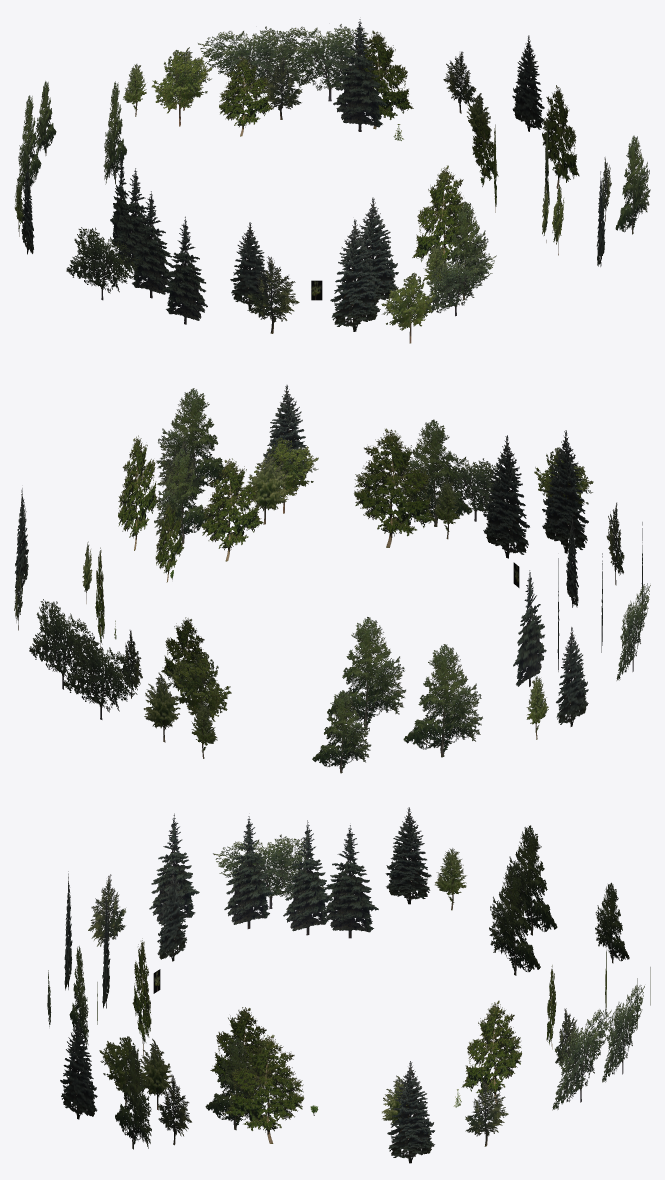
Rendered from level_forest_n2.FBX.
3 views of the same model, one above another, from view 1: azimuth 30°, elevation 25°; view 2: azimuth 150°, elevation 25°; view 3: azimuth 270°, elevation 25° (orthographic). The views are drawn at different scales.
Parts seen in each view (by area): view 1: Tree_200, Tree_239, Tree_138, Tree_137, Tree_198, Tree_206, Tree_215, Tree_216, Tree_169, Tree_242, Tree_152, Tree_204 (+21 smaller); view 2: Tree_198, Tree_223, Tree_199, Tree_230, Tree_207, Tree_239, Tree_226, Tree_138, Tree_243, Tree_200, Tree_217, Tree_208 (+22 smaller); view 3: Tree_201, Tree_204, Tree_241, Tree_199, Tree_176, Tree_206, Tree_242, Tree_225, Tree_200, Tree_179, Tree_223, Tree_231 (+19 smaller).
Part boxes in pixels (x1,y1,x2,y2): Tree_200: (268,24,388,101); Tree_239: (198,26,310,100); Tree_138: (330,219,380,331); Tree_137: (333,19,387,131); Tree_198: (412,165,469,263); Tree_206: (66,227,140,300); Tree_215: (424,252,496,316); Tree_216: (219,56,272,136); Tree_169: (162,216,207,324); Tree_242: (129,191,172,298); Tree_152: (151,50,212,126); Tree_204: (352,30,413,129); Tree_198: (354,428,436,547); Tree_223: (403,644,482,757); Tree_199: (327,617,405,729); Tree_230: (156,388,228,487); Tree_207: (201,458,263,561); Tree_239: (63,635,141,719); Tree_226: (483,435,529,558); Tree_138: (542,430,588,553); Tree_243: (400,419,472,526); Tree_200: (29,599,99,689); Tree_217: (312,690,371,773); Tree_208: (154,447,208,544); Tree_201: (224,1035,304,1143); Tree_204: (461,1000,521,1104); Tree_241: (322,825,378,938); Tree_199: (489,865,540,975); Tree_176: (387,1061,434,1163); Tree_206: (213,834,324,909); Tree_242: (224,816,274,928); Tree_225: (283,820,333,935); Tree_200: (552,1009,611,1110); Tree_179: (385,807,431,904); Tree_223: (505,825,557,935); Tree_231: (60,1017,97,1119).
Size of the model in its own units: 99.1 by 21.23 by 101.
